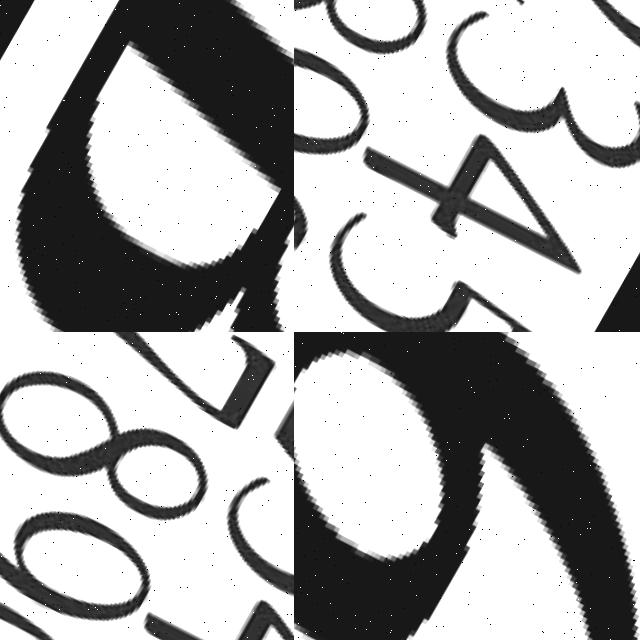0: (0, 546, 119, 640)
2: (474, 0, 640, 101)
3: (418, 0, 640, 198), (199, 459, 294, 640)
4: (342, 84, 630, 305), (123, 550, 294, 640)
5: (300, 197, 578, 332)
6: (294, 332, 640, 640)
7: (18, 332, 294, 445)
8: (0, 343, 238, 551), (294, 0, 457, 85)
9: (0, 443, 179, 640), (294, 0, 398, 188)
B: (15, 0, 294, 332)
